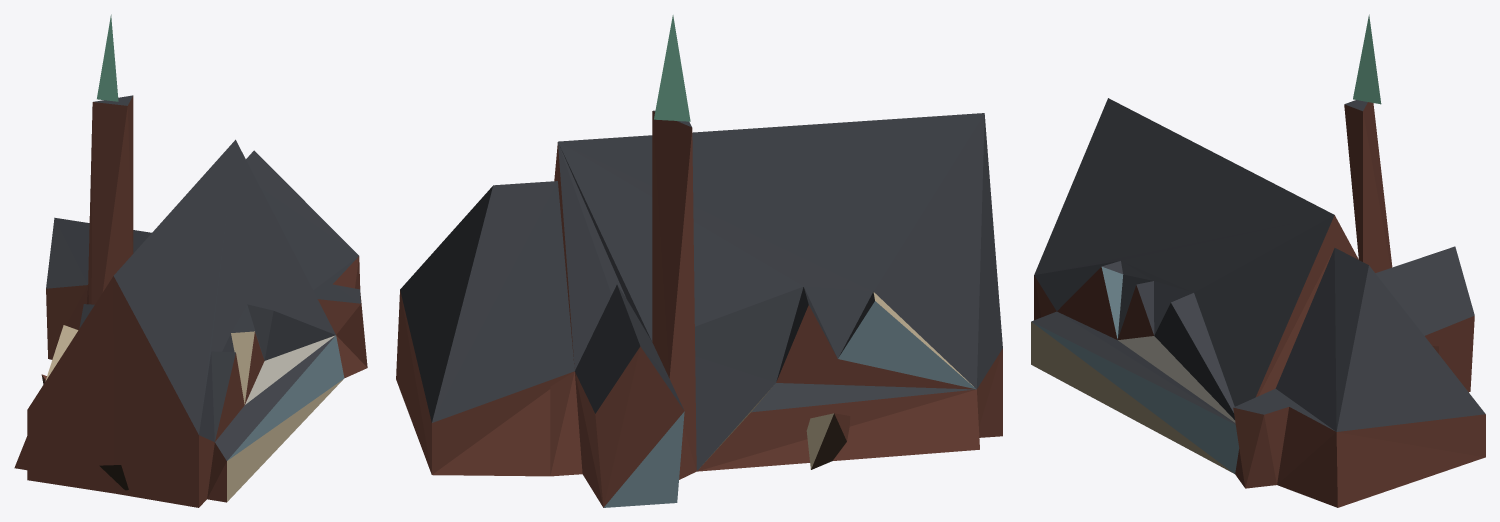
File: vrijburg.lod2.glb
3 renders of one model, left to right at view 1: azimuth 30°, elevation 25°; view 2: azimuth 150°, elevation 25°; view 3: azimuth 270°, elevation 25°, orthographic. The views are drawn at different scales.
Parts seen in each view (by area): view 1: lod2; view 2: lod2; view 3: lod2.
Part boxes in pixels (x1,y1,x2,y2): lod2: (14,14,367,507); lod2: (396,15,1002,507); lod2: (1031,14,1485,507).
Size of the model in its own units: 42.7 by 35.85 by 39.49.
